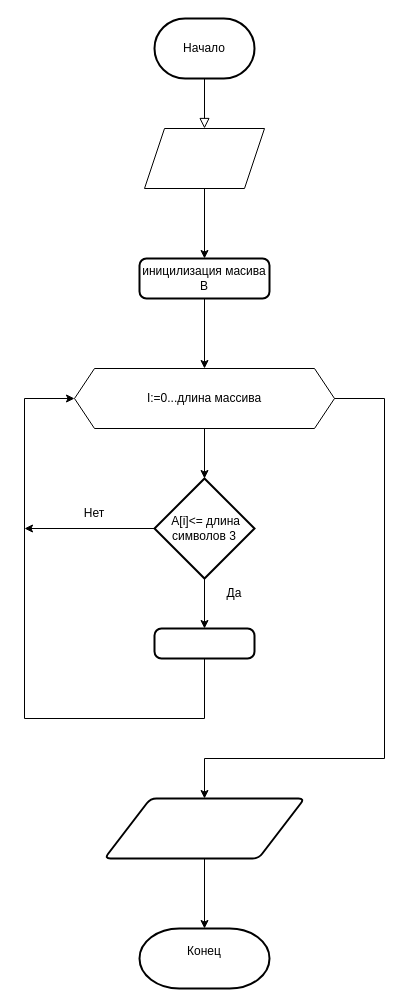
This 403x1006 diagram has some shape labels left out. Here are the shapes that lost their labels. From the top down, the box of each, then its label:
(144, 128, 264, 188): Ввод элементов массива A
(153, 627, 255, 659): добавление A[i] в масив B
(103, 797, 305, 859): Вывод масива B
